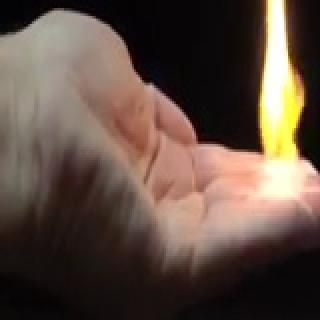fire: (251, 0, 307, 208)
